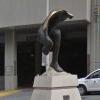Statue: (31, 3, 80, 75)
